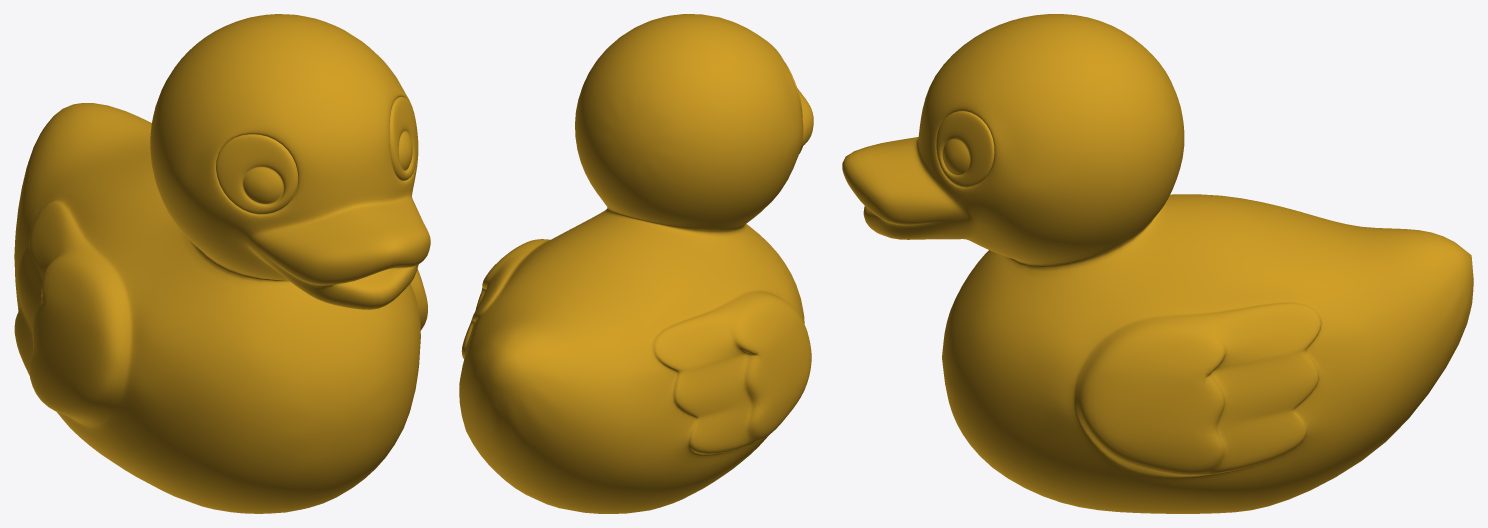
File: Duck.fbx
The picture shows the model from 3 angles, left to right: view 1: azimuth 30°, elevation 25°; view 2: azimuth 150°, elevation 25°; view 3: azimuth 270°, elevation 25°; orthographic projection. The views are drawn at different scales.
Parts seen in each view (by area): view 1: Duck; view 2: Duck; view 3: Duck.
Boxes of the visible parts, bbox=[...] form: Duck: bbox=[14, 14, 430, 513]; Duck: bbox=[459, 14, 813, 513]; Duck: bbox=[842, 14, 1473, 513].
Size of the model in its own units: 20.59 by 27.67 by 34.04.
